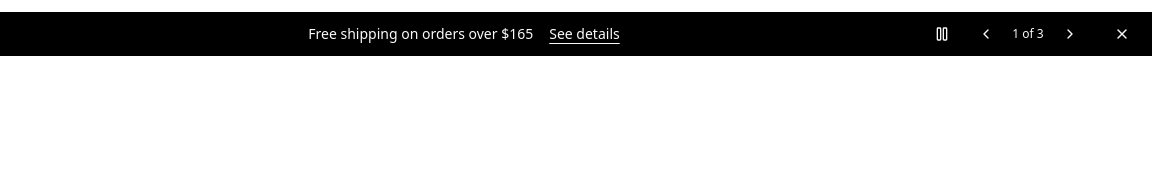
AnnouncementBar › previous and next › steps to the next message and back, going round at the ends
Click the button named "Next announcement": (1070, 34) [1048,12,1092,56]
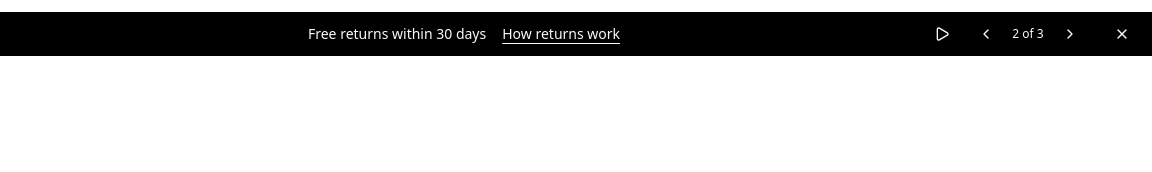
Expected: the text "Free returns within 30 days" is shown, [308,24,486,43]
Click the button named "Next announcement": (1070, 34) [1048,12,1092,56]
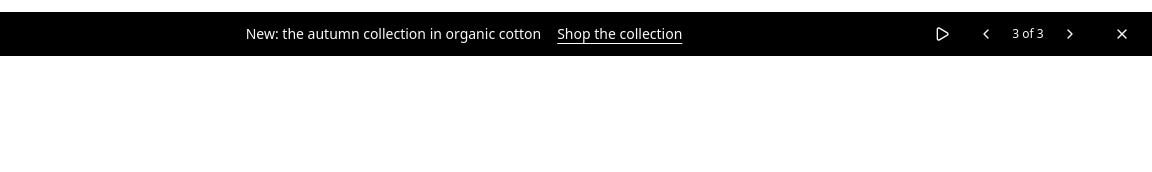
Click the button named "Next announcement": (1070, 34) [1048,12,1092,56]
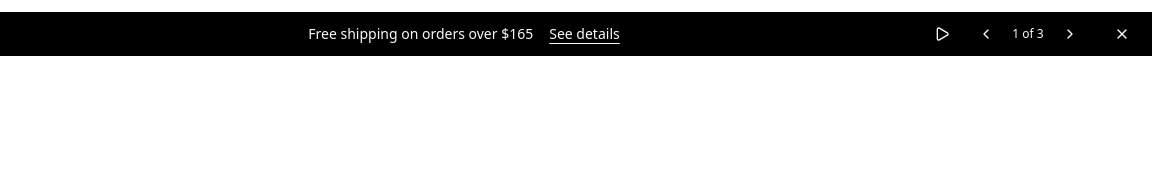
Expected: the text "Free shipping on orders over $165" is shown, [308,24,533,43]
Click the button named "Previous announcement": (986, 34) [964,12,1008,56]
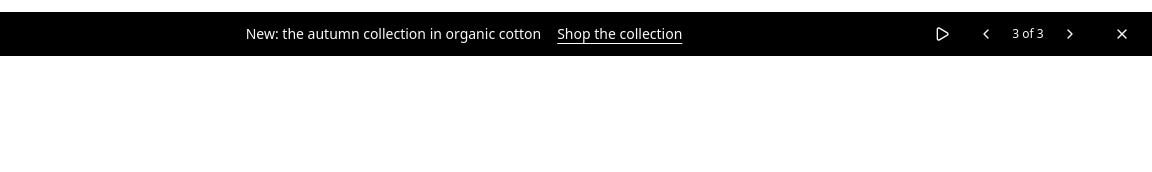
Expected: the text "New: the autumn collection in organic cotton" is shown, [246,24,541,43]
Click the button named "Previous announcement": (986, 34) [964,12,1008,56]
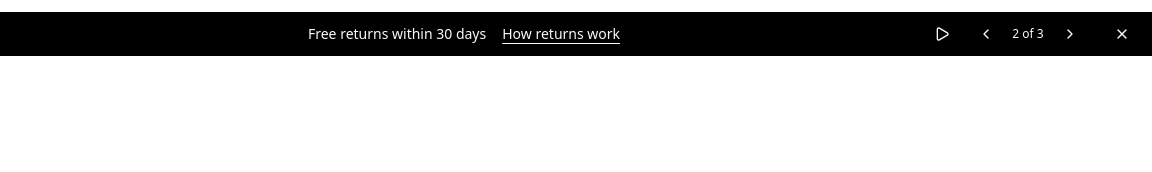
Expected: the text "Free returns within 30 days" is shown, [308,24,486,43]
